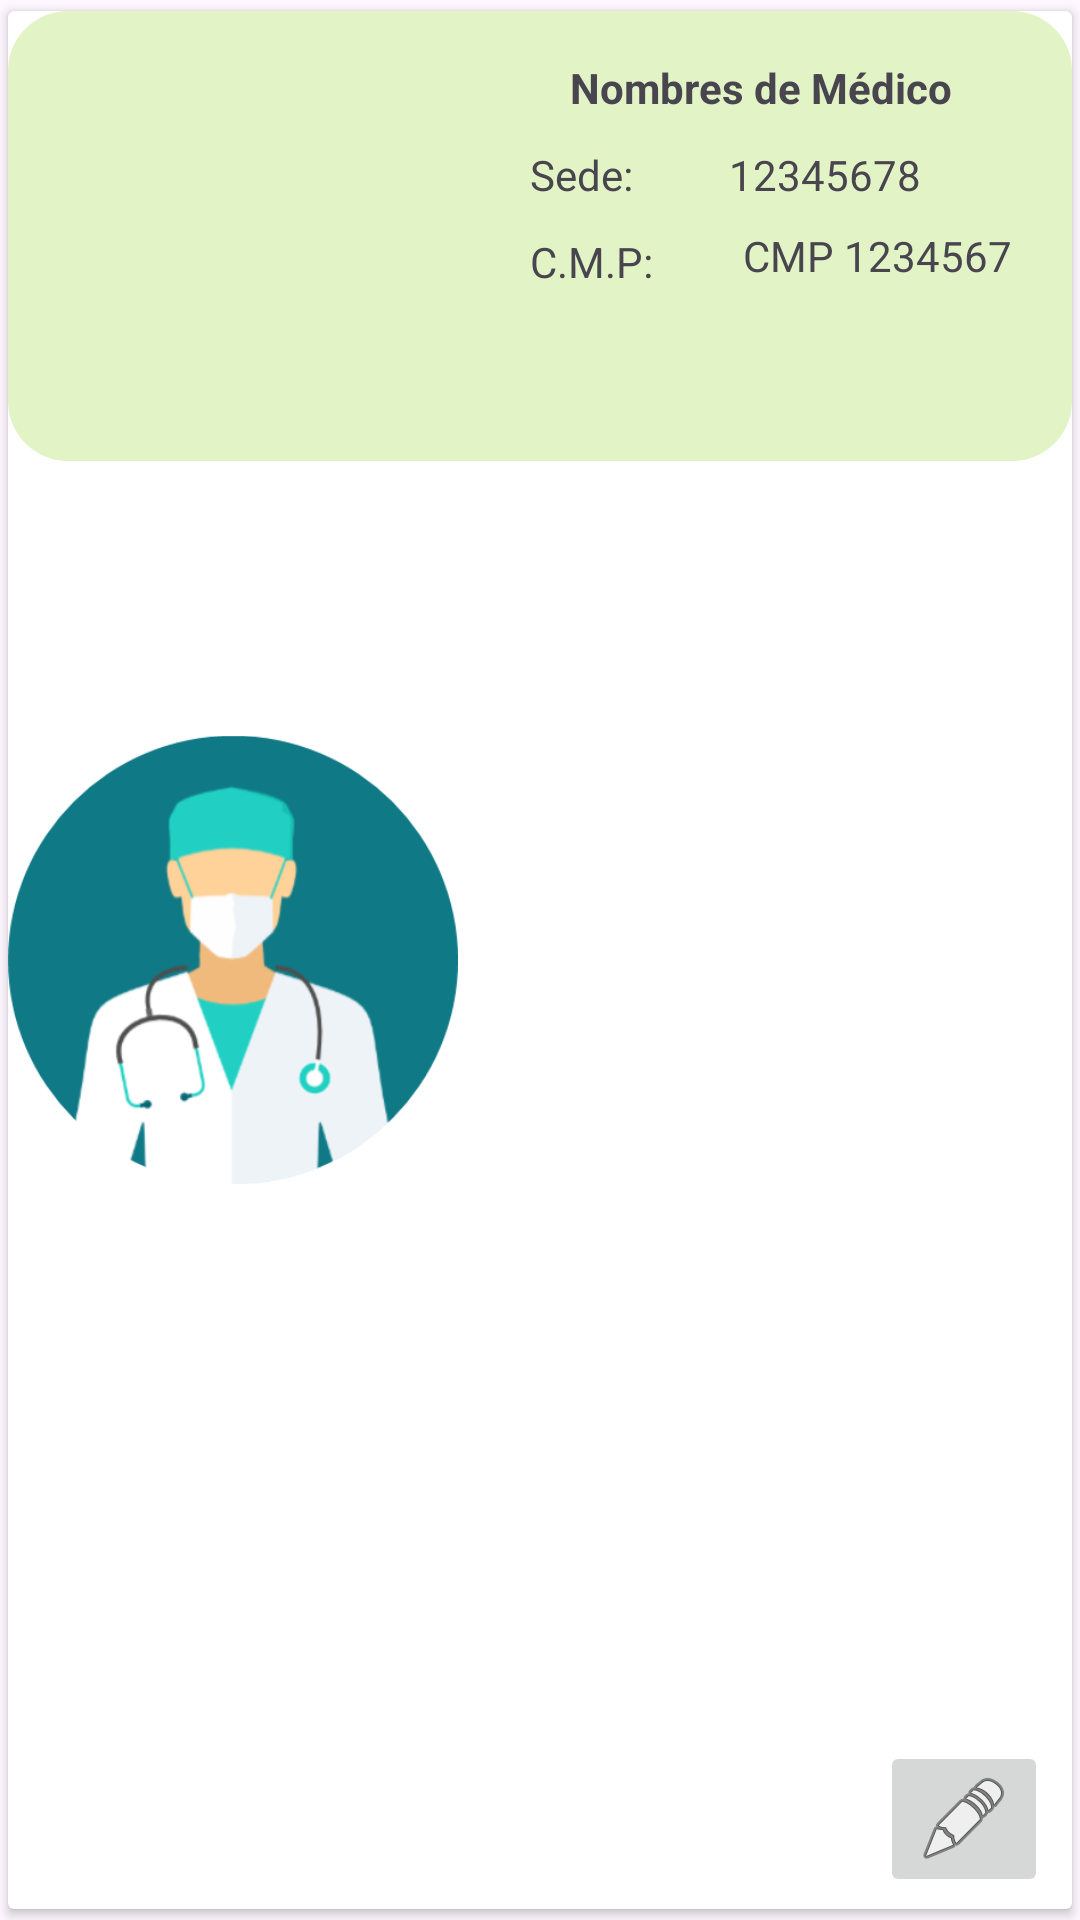

Icon click points for this 1080px×1920px phone screenshot, format (x,y):
edit: (964,1819)
